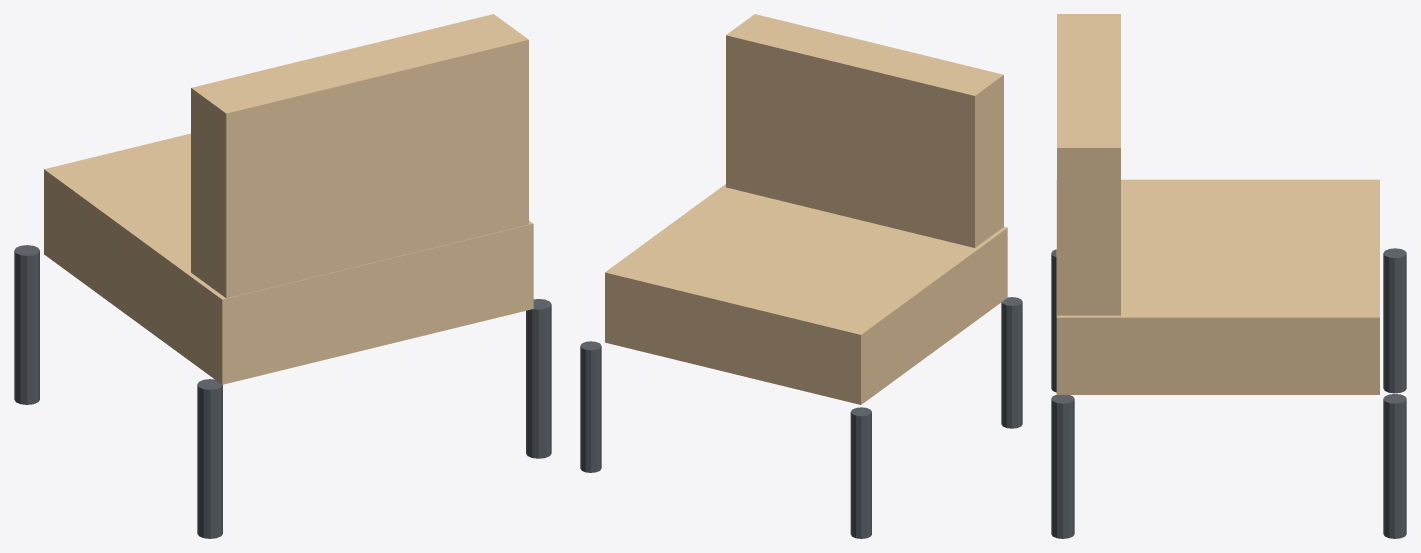
File: office_lounge_seating_reference_board_07.glb
3 views of the same model, side by side, from view 1: azimuth 30°, elevation 25°; view 2: azimuth 150°, elevation 25°; view 3: azimuth 270°, elevation 25° (orthographic). The views are drawn at different scales.
Visible parts, largest first — view 1: Cylinder; view 2: Cylinder; view 3: Cylinder.
Part boxes in pixels (<box>): Cylinder: <box>14,14,551,538</box>; Cylinder: <box>580,14,1022,538</box>; Cylinder: <box>1051,14,1406,538</box>.
Bounding box in the file's own units: 0.6837 × 0.78 × 0.6611.
